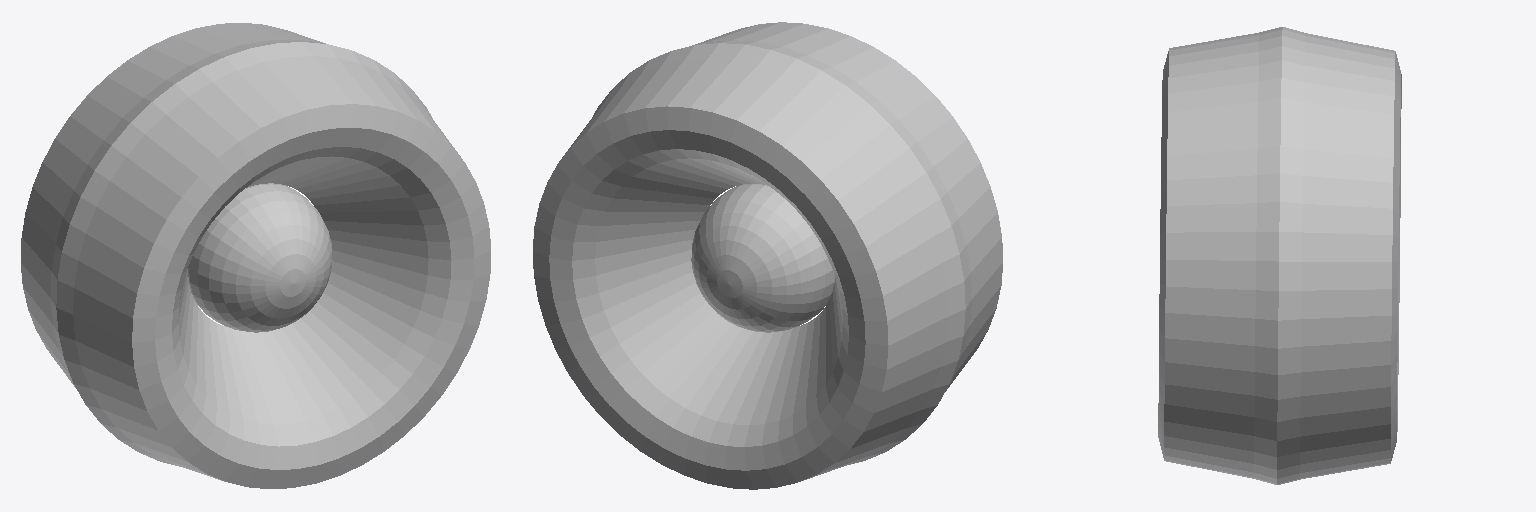
File: rueda_delantera_izquierda.obj
The picture shows the model from 3 angles: view 1: azimuth 30°, elevation 25°; view 2: azimuth 150°, elevation 25°; view 3: azimuth 270°, elevation 25°; orthographic projection.
Parts seen in each view (by area): view 1: Torus.004_Torus.006; view 2: Torus.004_Torus.006; view 3: Torus.004_Torus.006.
Part boxes in pixels (x1,y1,x2,y2): Torus.004_Torus.006: (21,23,490,488); Torus.004_Torus.006: (533,22,1002,489); Torus.004_Torus.006: (1158,27,1401,484).
Size of the model in its own units: 2.1 by 2.1 by 1.11.